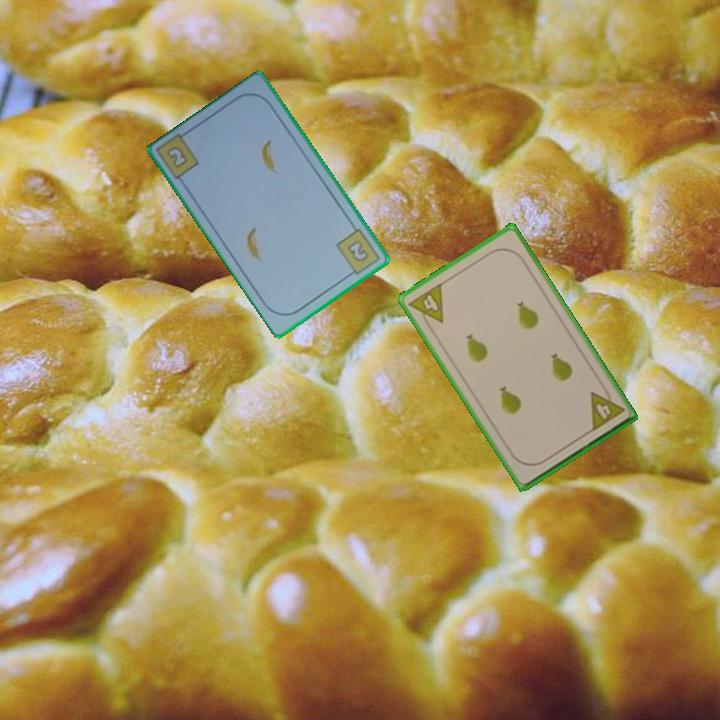2b: (332, 225, 383, 280), (163, 143, 191, 171)
4p: (405, 279, 446, 333), (586, 382, 627, 434)
